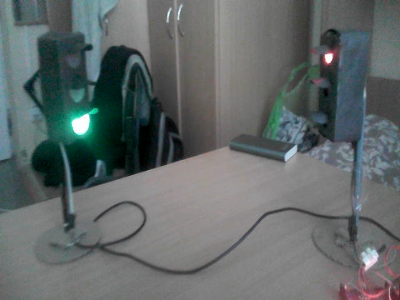trafficlight_green: (55, 39, 94, 137)
trafficlight_red: (309, 34, 340, 135)
